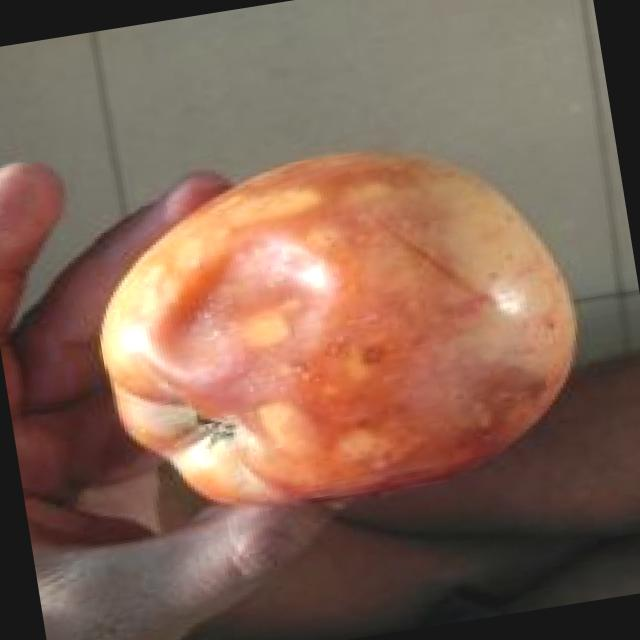Rotten_Apple: (40, 117, 640, 546)
